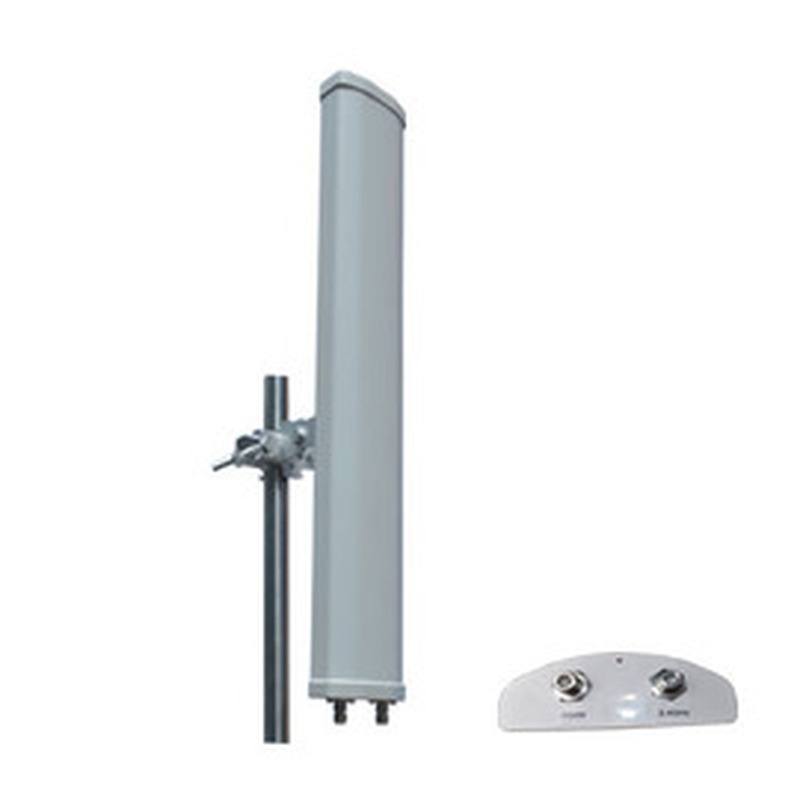sa: (265, 61, 426, 742)
